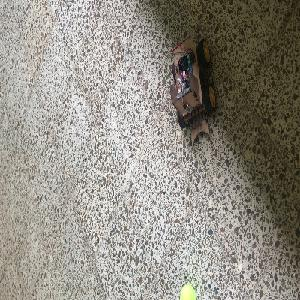Ball: (179, 285, 196, 298)
Robot: (170, 35, 216, 146)
